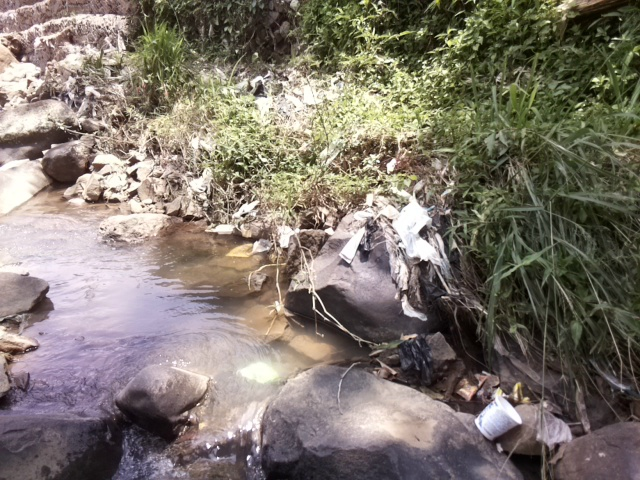Sampah_Styrofoam: (473, 395, 522, 447)
